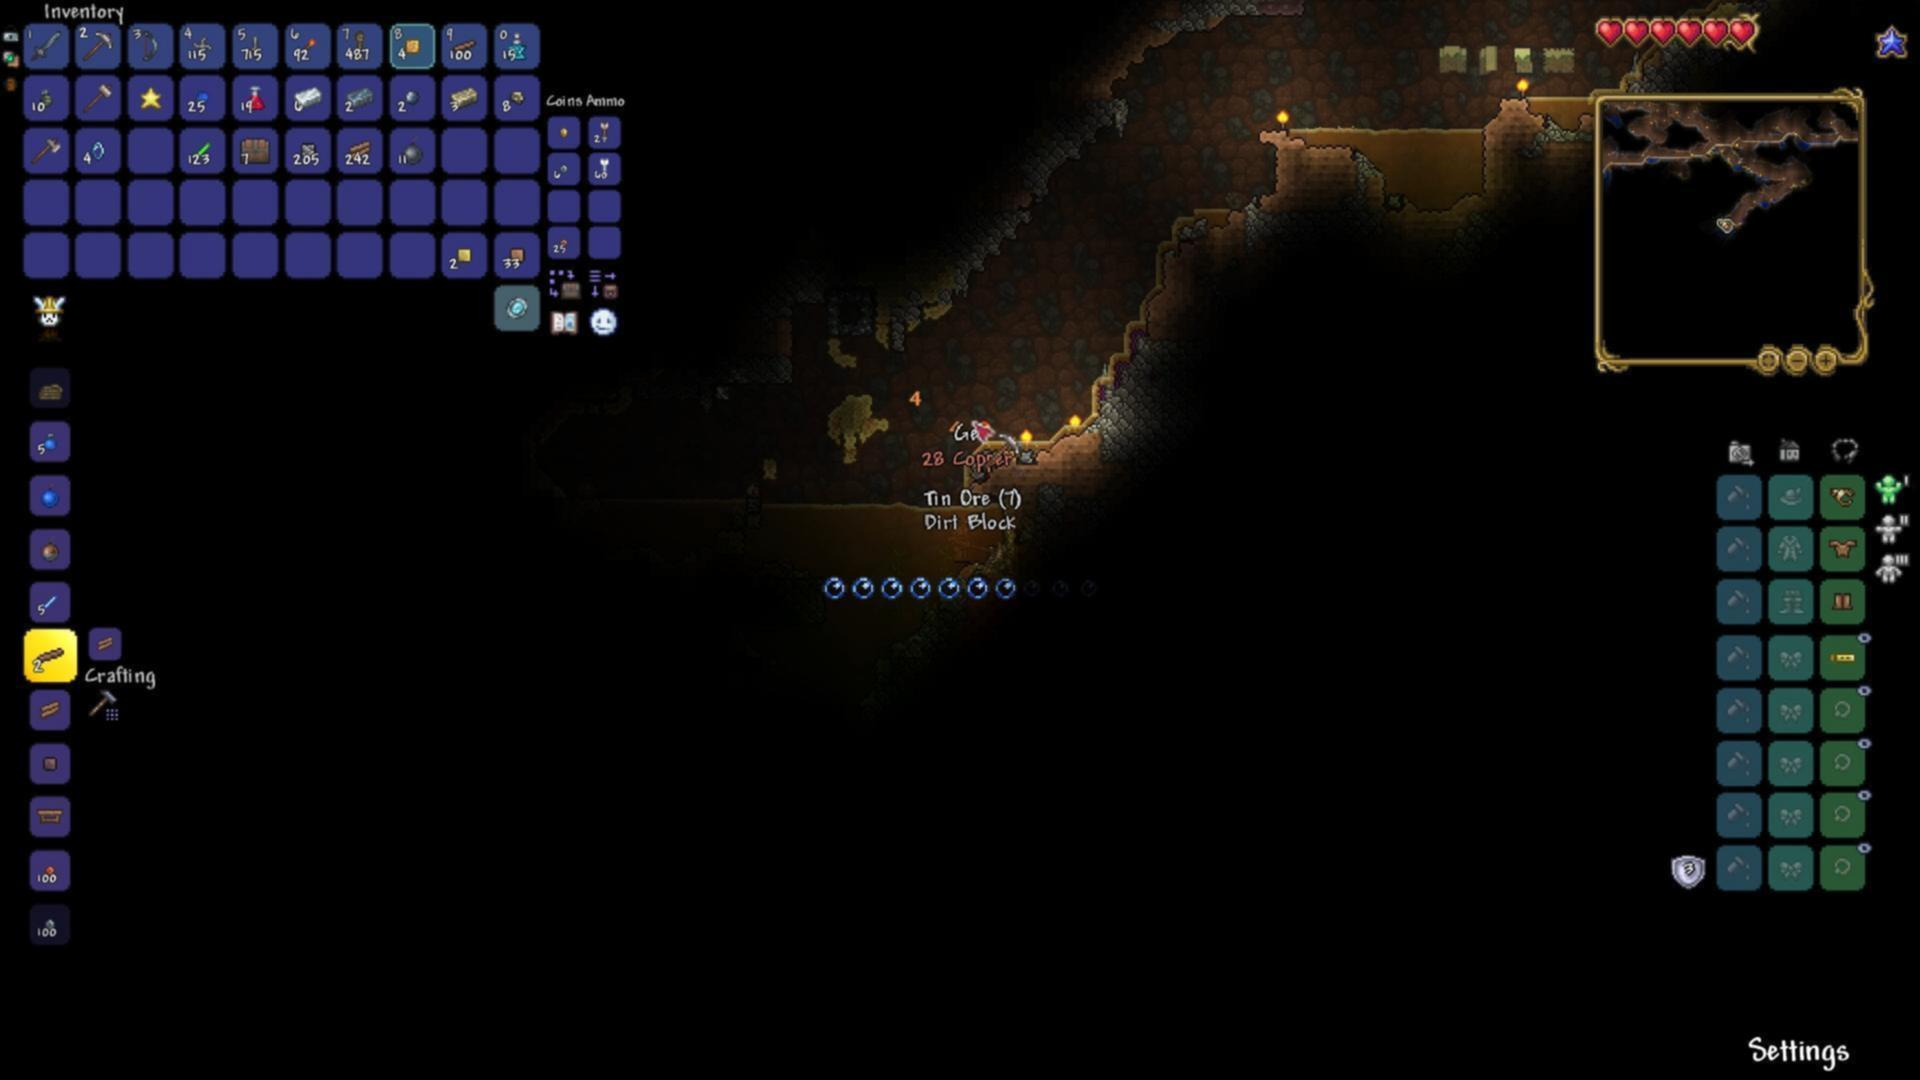arrow: (597, 157, 612, 178), (599, 120, 611, 145)
axe: (32, 135, 65, 166)
bar: (451, 82, 483, 109), (347, 83, 375, 113), (293, 86, 323, 109)
bomb: (400, 138, 423, 165)
bow: (142, 29, 160, 62)
breastplate: (1830, 538, 1859, 559)
chest: (239, 136, 272, 166)
gel: (195, 88, 212, 108)
glowstick: (194, 138, 214, 158)
grenade: (33, 87, 58, 111)
helmet: (1829, 484, 1858, 509)
knife: (247, 32, 266, 63)
legs: (1830, 591, 1858, 613)
lens: (90, 138, 105, 164)
liquid: (866, 496, 911, 517)
mirror: (504, 290, 531, 320)
ore: (402, 87, 425, 112), (505, 88, 526, 105)
pickaxe: (80, 29, 116, 63)
platform: (36, 644, 65, 669)
rope: (352, 29, 367, 58)
shuriken: (191, 32, 215, 61)
wood: (345, 140, 373, 161), (38, 698, 61, 717), (94, 634, 113, 653)
workbench: (36, 807, 63, 824)
